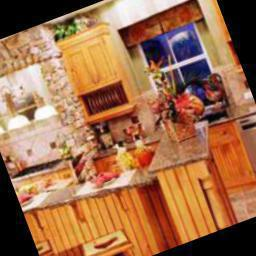Electrodomestico: (237, 98, 256, 189)
